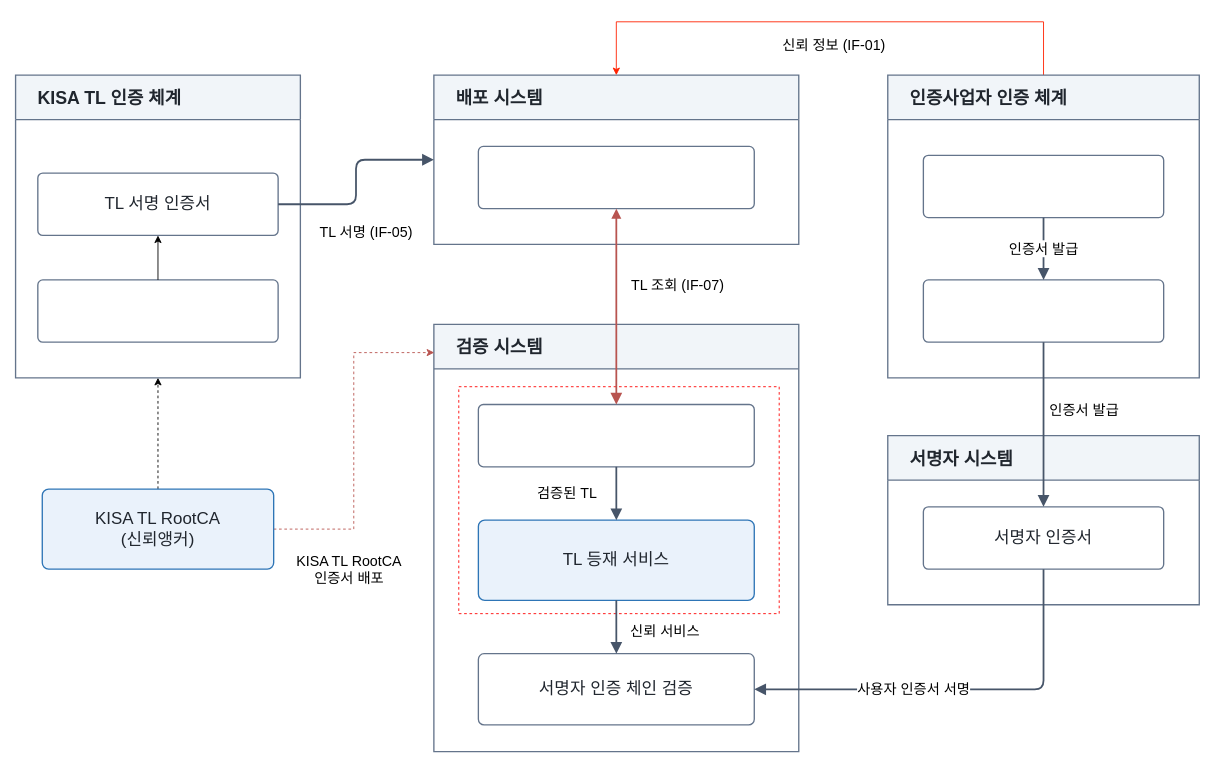
The diagram is 1216 pixels wide and 768 high, and some of its shapes have lost their labels. Each missing label, with the centre of its shape:
CA: point (1043, 310)
KISA TL CA: point (157, 310)
RootCA: point (1043, 186)
TL 인증 체인·서명 검증: point (616, 435)
서명된 KR-TL: point (616, 177)
